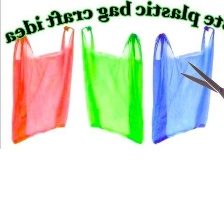plastic_bag: (6, 24, 77, 148), (149, 23, 219, 145), (77, 23, 145, 146)
